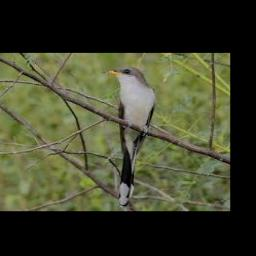Cuckoo: (102, 67, 156, 206)
